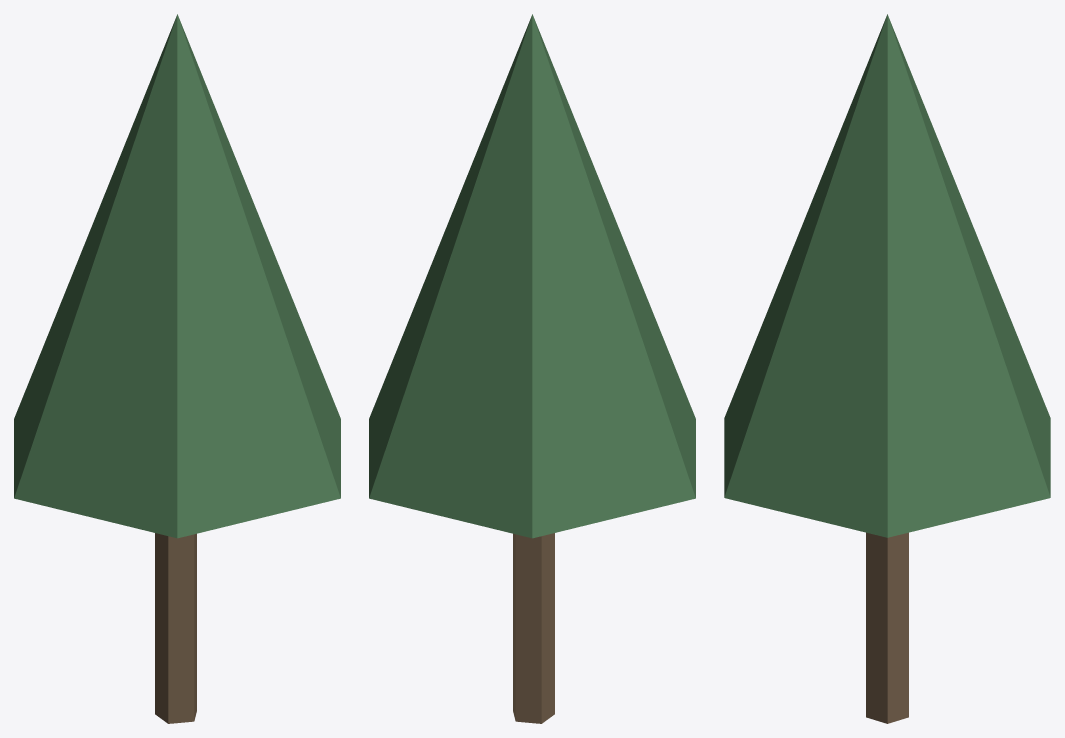
File: sapling.glb
3 renders of one model, left to right at view 1: azimuth 30°, elevation 25°; view 2: azimuth 150°, elevation 25°; view 3: azimuth 270°, elevation 25°, orthographic.
Visible parts, largest first — view 1: sapling; view 2: sapling; view 3: sapling.
Boxes of the visible parts, bbox=[...] form: sapling: bbox=[14, 14, 340, 723]; sapling: bbox=[369, 14, 695, 723]; sapling: bbox=[724, 14, 1050, 723].
Size of what is drawn, in the model's own units: 1 by 2.05 by 0.866.
